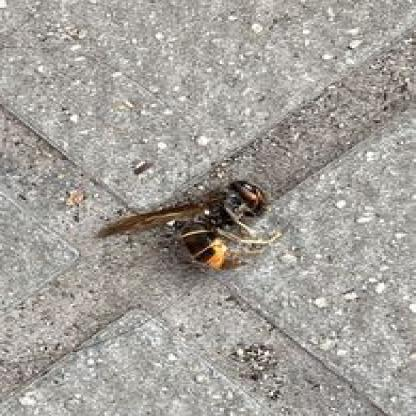Asian Hornet: (106, 167, 295, 284)
